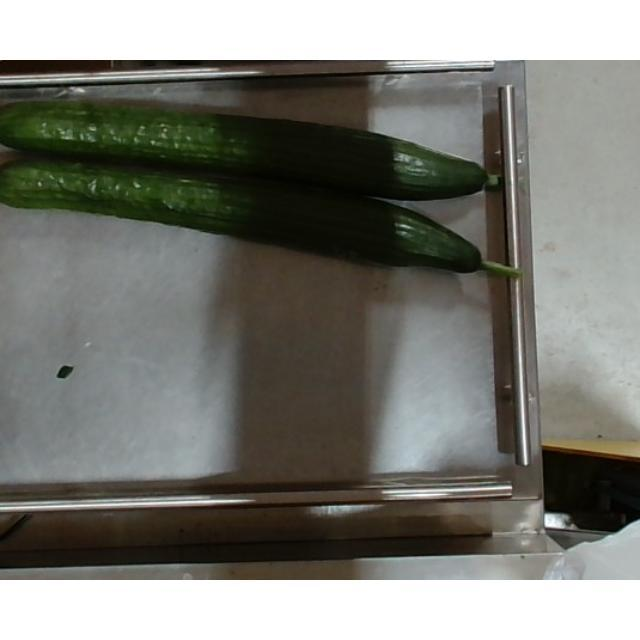cucumber: (0, 160, 516, 276), (2, 101, 504, 200)
